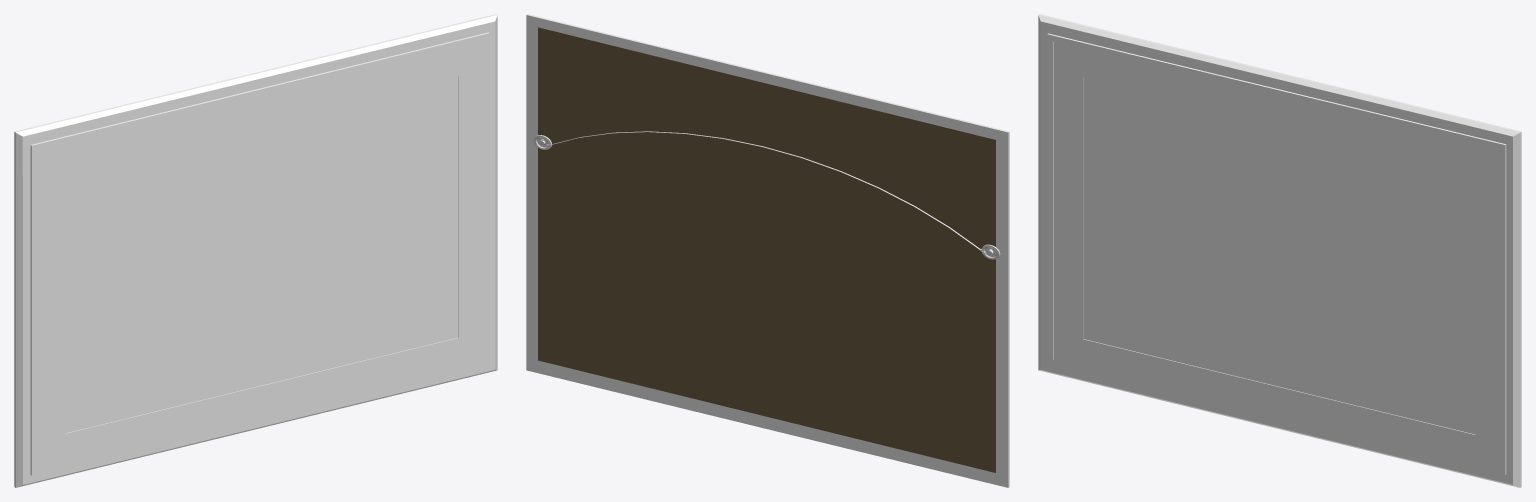
3 views of the same model, side by side, from view 1: azimuth 30°, elevation 25°; view 2: azimuth 150°, elevation 25°; view 3: azimuth 330°, elevation 25° (orthographic).
Parts seen in each view (by area): view 1: Group_001; view 2: Group_001, Group_009; view 3: Group_001.
Part boxes in pixels (x1,y1,x2,y2): Group_001: [14, 14, 497, 487]; Group_001: [526, 14, 1009, 487]; Group_009: [550, 131, 981, 249]; Group_001: [1038, 14, 1521, 487].
Bounding box in the file's own units: 4274 × 3012 × 143.
